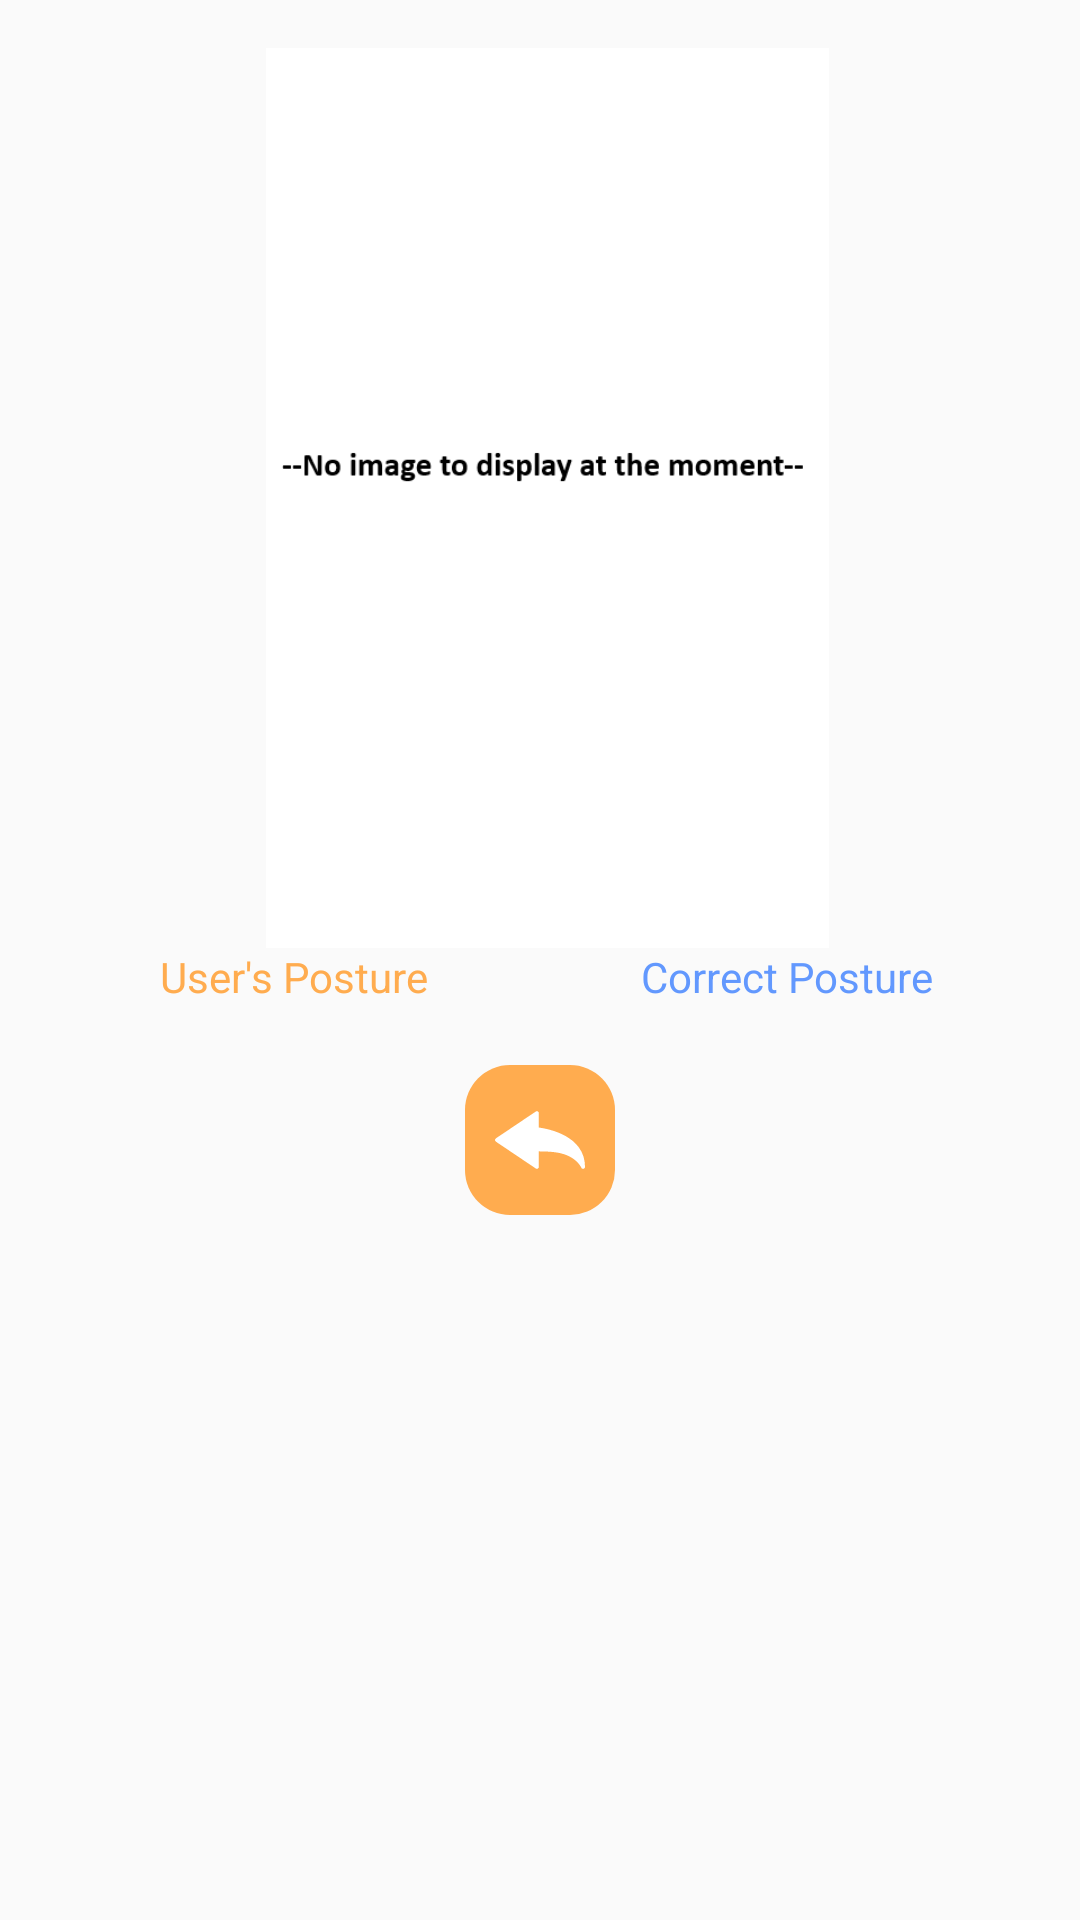

Named icons in this screenshot (1080×1920) and their bounding boxes, (x1, y1, x2, y2):
back arrow: (465, 1065, 615, 1215)
